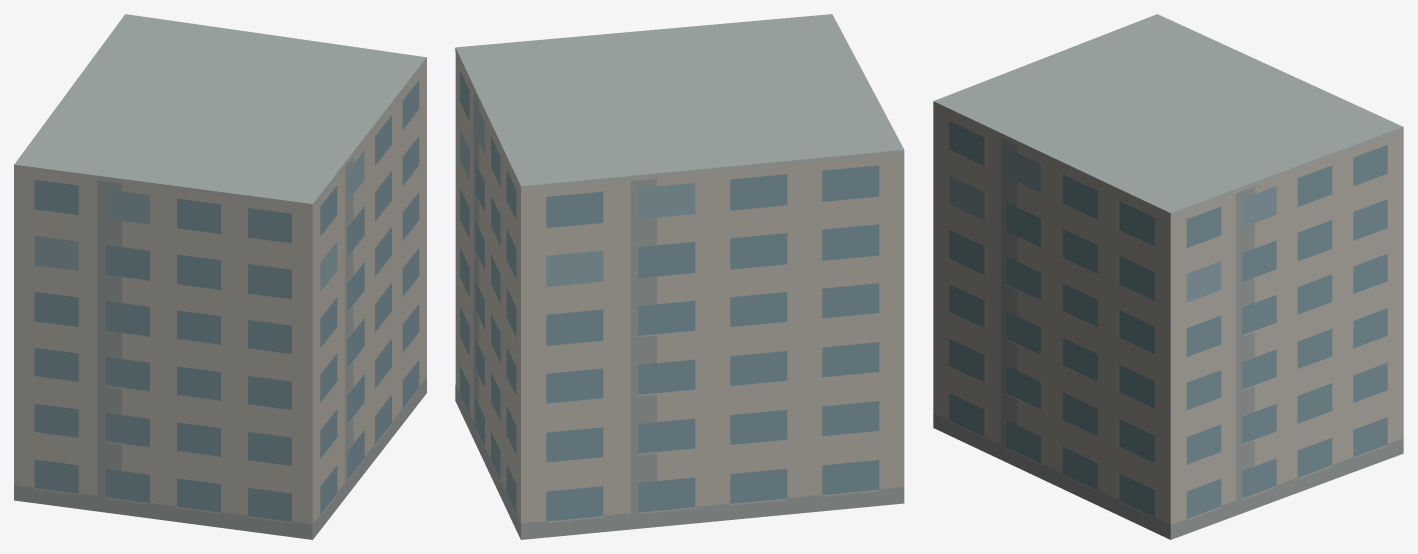
Rendered from survey-upis-32864630.glb.
3 renders of one model, left to right at view 1: azimuth 30°, elevation 25°; view 2: azimuth 150°, elevation 25°; view 3: azimuth 270°, elevation 25°, orthographic. The views are drawn at different scales.
Visible parts, largest first — view 1: survey-upis-32864630.tmp; view 2: survey-upis-32864630.tmp; view 3: survey-upis-32864630.tmp.
Part boxes in pixels (<box>): survey-upis-32864630.tmp: <box>14,14,426,539</box>; survey-upis-32864630.tmp: <box>455,14,904,539</box>; survey-upis-32864630.tmp: <box>933,14,1403,539</box>.
Size of the model in its own units: 22.69 by 17.35 by 22.64.
